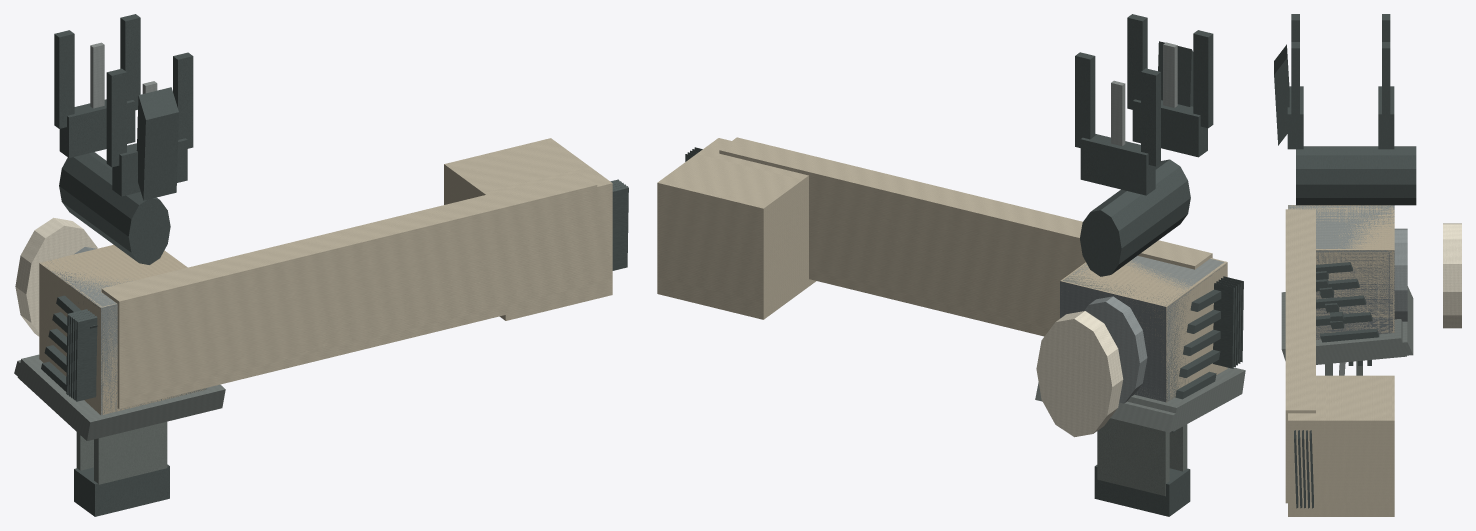
The model's file is weapon_m9a3.glb.
3 views of the same model, side by side, from view 1: azimuth 30°, elevation 25°; view 2: azimuth 150°, elevation 25°; view 3: azimuth 270°, elevation 25° (orthographic). The views are drawn at different scales.
Parts seen in each view (by area): view 1: weapon_m9a3__L0_action, weapon_m9a3__L1_action, weapon_m9a3__L0_body, weapon_m9a3__L1_body, weapon_m9a3__L0_pistolgrip__m9_grip, weapon_m9a3__L0_magazine__m9_17, weapon_m9a3__L1_magazine__m9_17, weapon_m9a3__L1_pistolgrip__m9_grip, weapon_m9a3__L0_light__pistol_light, weapon_m9a3__L0_magazine__m9_20, weapon_m9a3__L1_light__pistol_light, weapon_m9a3__L1_magazine__m9_20; view 2: weapon_m9a3__L0_action, weapon_m9a3__L1_action, weapon_m9a3__L0_body, weapon_m9a3__L1_body, weapon_m9a3__L0_light__pistol_light, weapon_m9a3__L1_light__pistol_light, weapon_m9a3__L0_pistolgrip__m9_grip, weapon_m9a3__L0_magazine__m9_20, weapon_m9a3__L1_pistolgrip__m9_grip, weapon_m9a3__L1_magazine__m9_17, weapon_m9a3__L1_magazine__m9_20, weapon_m9a3__L0_magazine__m9_17 (+1 smaller); view 3: weapon_m9a3__L0_action, weapon_m9a3__L0_body, weapon_m9a3__L1_action, weapon_m9a3__L0_light__pistol_light, weapon_m9a3__L1_body, weapon_m9a3__L0_magazine__m9_17, weapon_m9a3__L0_pistolgrip__m9_grip, weapon_m9a3__L0_magazine__m9_20, weapon_m9a3__L1_pistolgrip__m9_grip, weapon_m9a3__L1_magazine__m9_17, weapon_m9a3__L1_light__pistol_light, weapon_m9a3__L1_magazine__m9_20.
Boxes of the visible parts, bbox=[...] form: weapon_m9a3__L0_action: bbox=[39, 140, 621, 414]; weapon_m9a3__L1_action: bbox=[39, 138, 628, 414]; weapon_m9a3__L0_body: bbox=[54, 14, 191, 513]; weapon_m9a3__L1_body: bbox=[54, 14, 193, 516]; weapon_m9a3__L0_pistolgrip__m9_grip: bbox=[42, 245, 205, 414]; weapon_m9a3__L0_magazine__m9_17: bbox=[20, 331, 222, 439]; weapon_m9a3__L1_magazine__m9_17: bbox=[17, 258, 225, 440]; weapon_m9a3__L1_pistolgrip__m9_grip: bbox=[40, 244, 187, 391]; weapon_m9a3__L0_light__pistol_light: bbox=[16, 222, 105, 367]; weapon_m9a3__L0_magazine__m9_20: bbox=[16, 273, 179, 431]; weapon_m9a3__L1_light__pistol_light: bbox=[15, 217, 116, 413]; weapon_m9a3__L1_magazine__m9_20: bbox=[14, 264, 182, 430]; weapon_m9a3__L0_action: bbox=[664, 139, 1243, 399]; weapon_m9a3__L1_action: bbox=[657, 137, 1243, 401]; weapon_m9a3__L0_body: bbox=[1076, 14, 1219, 513]; weapon_m9a3__L1_body: bbox=[1065, 14, 1213, 516]; weapon_m9a3__L0_light__pistol_light: bbox=[1038, 286, 1147, 433]; weapon_m9a3__L1_light__pistol_light: bbox=[1036, 271, 1213, 437]; weapon_m9a3__L0_pistolgrip__m9_grip: bbox=[1064, 260, 1221, 398]; weapon_m9a3__L0_magazine__m9_20: bbox=[1038, 255, 1238, 430]; weapon_m9a3__L1_pistolgrip__m9_grip: bbox=[1060, 262, 1222, 399]; weapon_m9a3__L1_magazine__m9_17: bbox=[1127, 290, 1245, 431]; weapon_m9a3__L1_magazine__m9_20: bbox=[1035, 382, 1175, 432]; weapon_m9a3__L0_magazine__m9_17: bbox=[1068, 264, 1242, 429]; weapon_m9a3__L0_action: bbox=[1286, 208, 1393, 515]; weapon_m9a3__L0_body: bbox=[1274, 14, 1415, 375]; weapon_m9a3__L1_action: bbox=[1285, 205, 1394, 516]; weapon_m9a3__L0_light__pistol_light: bbox=[1316, 223, 1460, 339]; weapon_m9a3__L1_body: bbox=[1274, 14, 1416, 375]; weapon_m9a3__L0_magazine__m9_17: bbox=[1283, 206, 1404, 363]; weapon_m9a3__L0_pistolgrip__m9_grip: bbox=[1290, 205, 1392, 341]; weapon_m9a3__L0_magazine__m9_20: bbox=[1289, 206, 1412, 360]; weapon_m9a3__L1_pistolgrip__m9_grip: bbox=[1288, 205, 1394, 342]; weapon_m9a3__L1_magazine__m9_17: bbox=[1281, 205, 1406, 364]; weapon_m9a3__L1_light__pistol_light: bbox=[1320, 205, 1461, 332]; weapon_m9a3__L1_magazine__m9_20: bbox=[1288, 205, 1413, 358].
Bounding box in the file's own units: 5.16 × 4.08 × 1.77.
2 materials, 2 textured.
